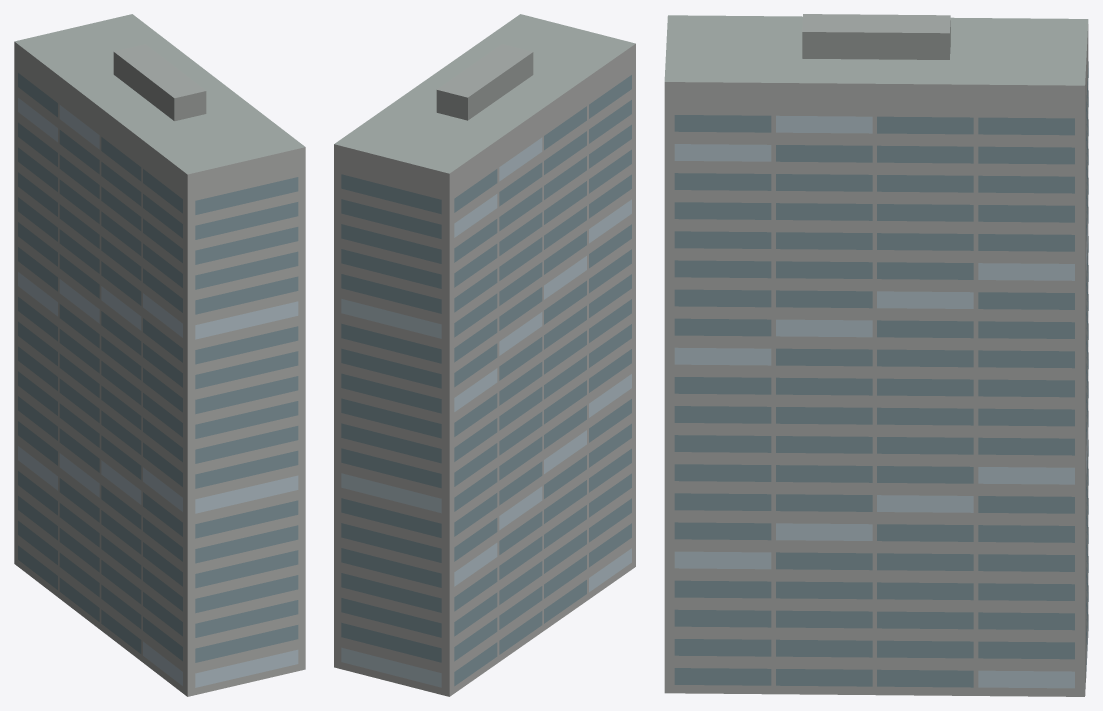
File: fallback-sk-bukhansan-city-127.glb
3 renders of one model, left to right at view 1: azimuth 30°, elevation 25°; view 2: azimuth 150°, elevation 25°; view 3: azimuth 270°, elevation 25°, orthographic. The views are drawn at different scales.
Visible parts, largest first — view 1: fallback-sk-bukhansan-city-127; view 2: fallback-sk-bukhansan-city-127; view 3: fallback-sk-bukhansan-city-127.
Boxes of the visible parts, left/top/right/bottom form: fallback-sk-bukhansan-city-127: left=14, top=14, right=305, bottom=696; fallback-sk-bukhansan-city-127: left=334, top=14, right=635, bottom=696; fallback-sk-bukhansan-city-127: left=664, top=14, right=1088, bottom=696.
Size of the model in its own units: 13.53 by 57 by 34.36.
